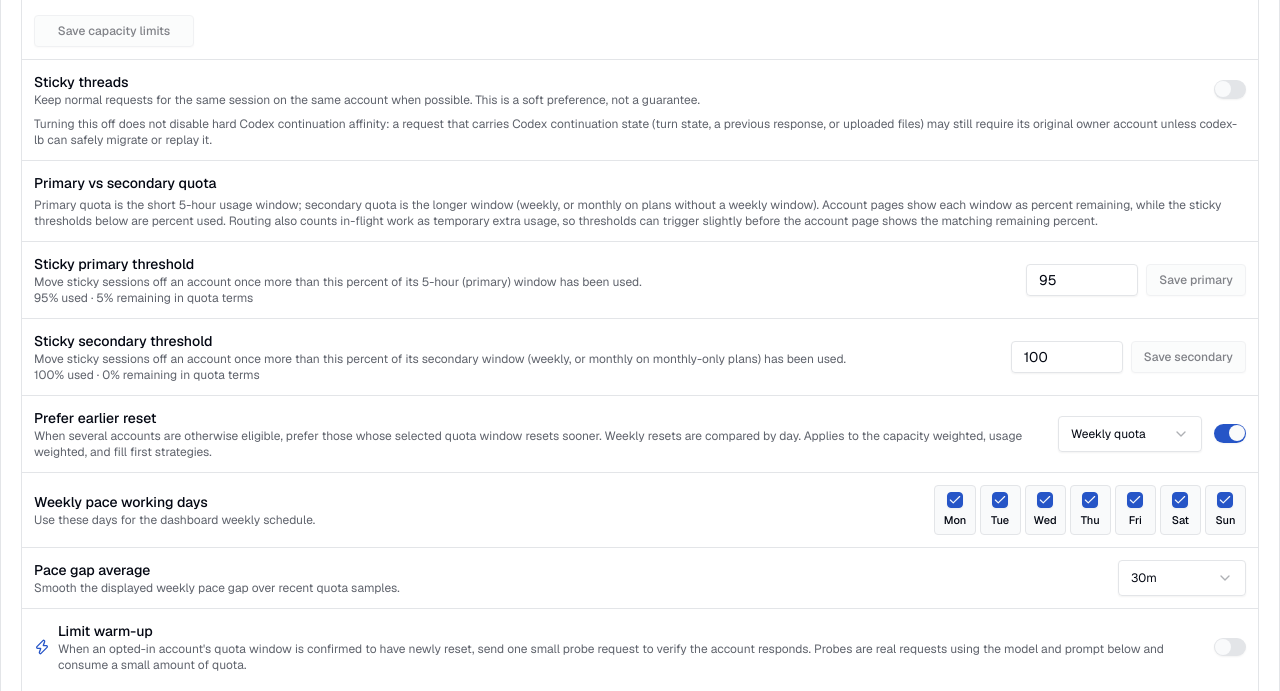
Test case: RoutingSettings › shows the remaining-percent equivalent for sticky thresholds
(page scrolled)
Expected: the text "95% used · 5% remaining in quota terms" is shown, [34, 290, 253, 306]
Expected: the text "100% used · 0% remaining in quota terms" is shown, [34, 366, 260, 382]
Clear the number field named "Sticky secondary threshold". click: (1067, 356)
box: [1011, 340, 1123, 372]
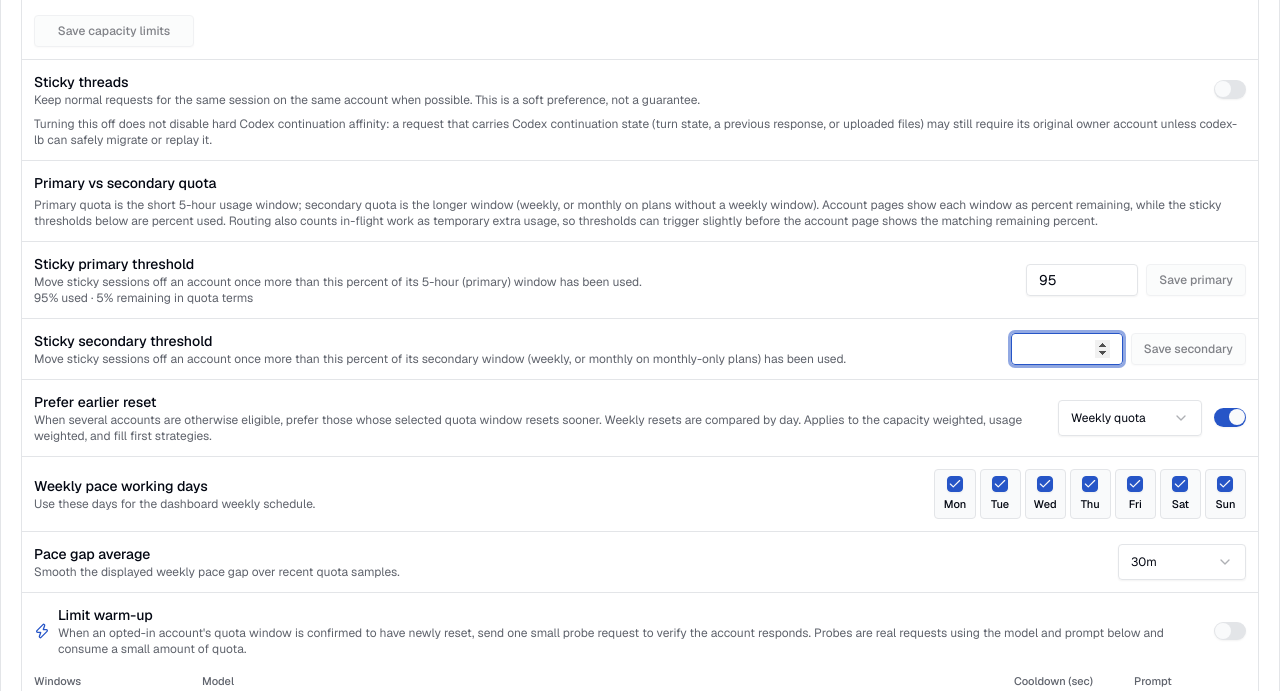
Type "70" into the number field named "Sticky secondary threshold". click: (1067, 348)
box: [1011, 332, 1123, 364]
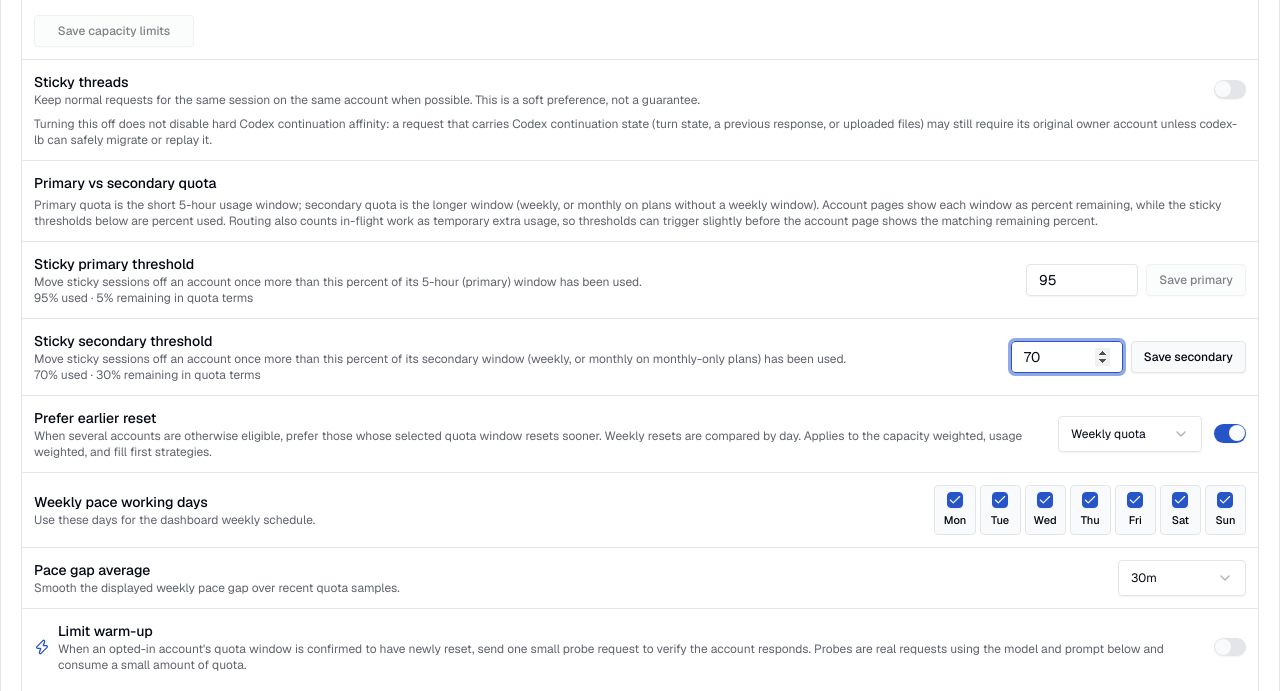
Expected: the text "70% used · 30% remaining in quota terms" is shown, [34, 366, 261, 382]
Note: Decimal thresholds keep the two displayed values complementary.
Clear the number field named "Sticky secondary threshold". click: (1067, 356)
box: [1011, 340, 1123, 372]
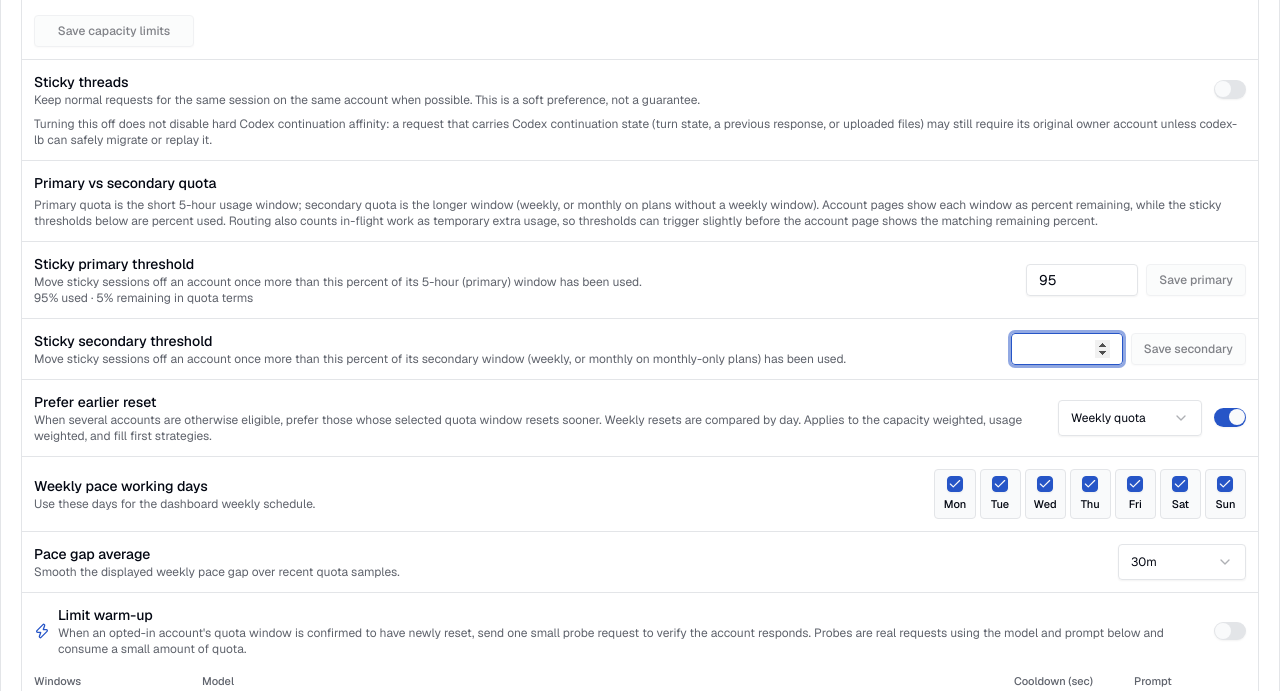
Type "12.5" into the number field named "Sticky secondary threshold". click: (1067, 348)
box: [1011, 332, 1123, 364]
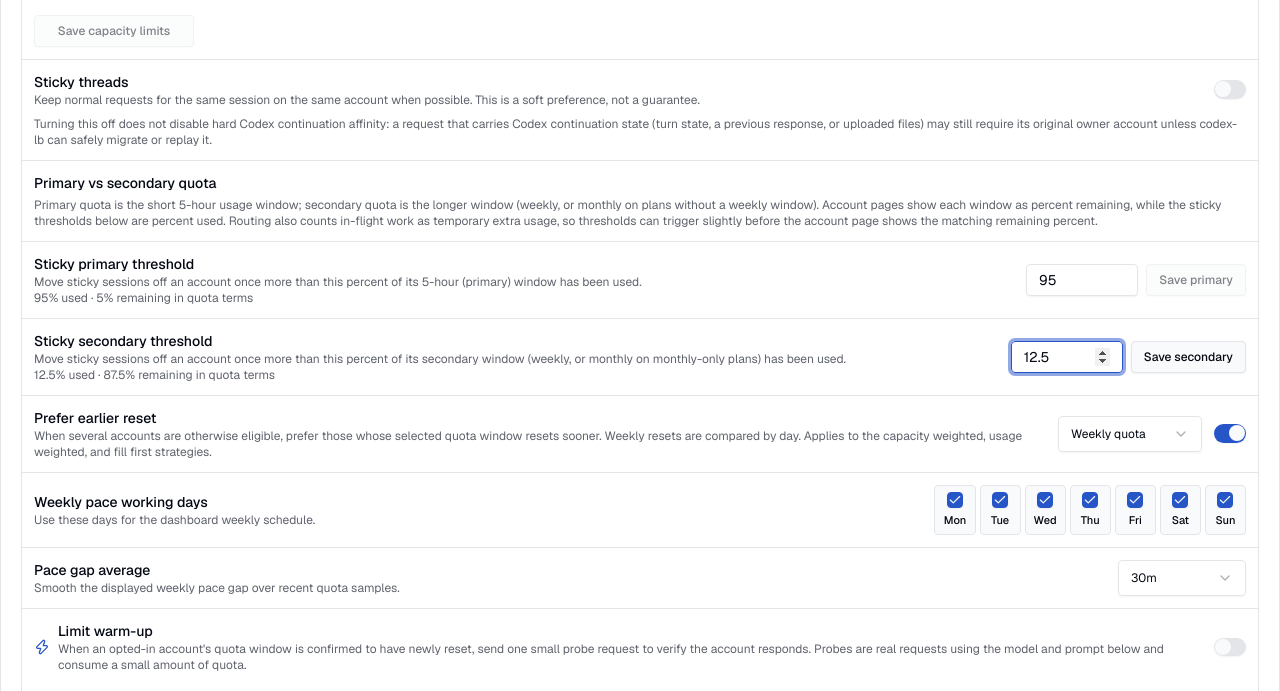
Expected: the text "12.5% used · 87.5% remaining in quota terms" is shown, [34, 366, 275, 382]
